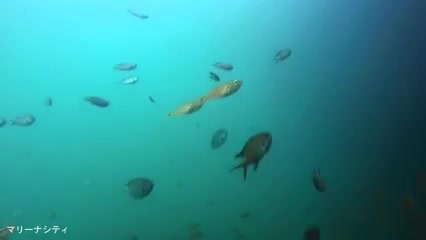mezina: (235, 129, 280, 182)
smallfish: (197, 72, 248, 105)
